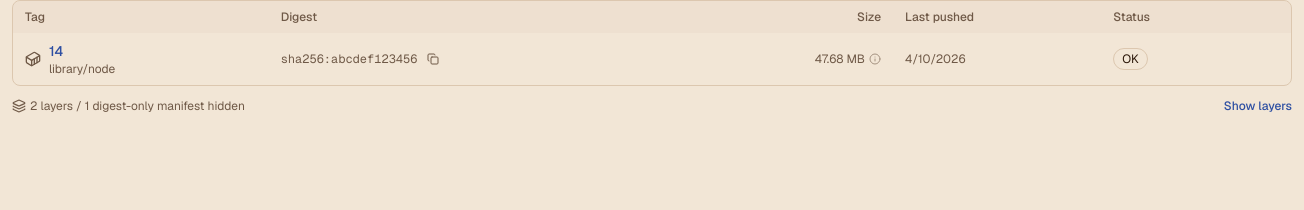
Scenario: DockerTagList › clicking 'Show layers' reveals the docker-layer-list panel with blob & manifest paths
Click the button with test id "toggle-layers": {"x": 1258, "y": 106} [1224,98,1292,114]
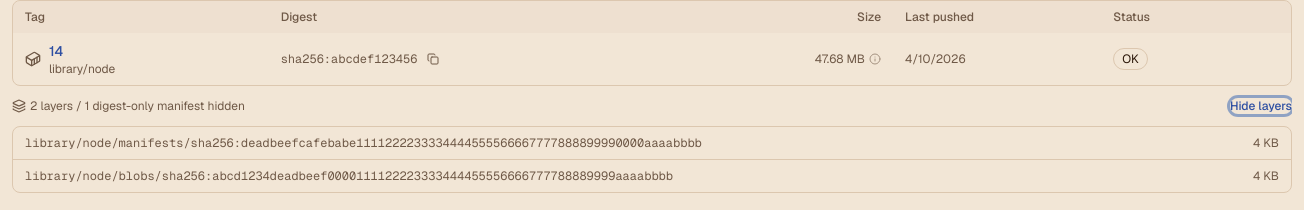
Now the text "library/node/blobs/sha256:abcd1234deadbeef0000111122223333444455556666777788889999aaaabbbb" is shown, box [25,168,673,184]
Now the text "library/node/manifests/sha256:deadbeefcafebabe1111222233334444555566667777888899990000aaaabbbb" is shown, box [25,135,702,151]
